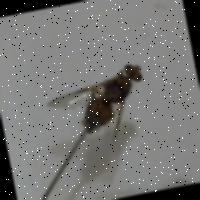Oriental-fruit-fly: (39, 47, 168, 157)
